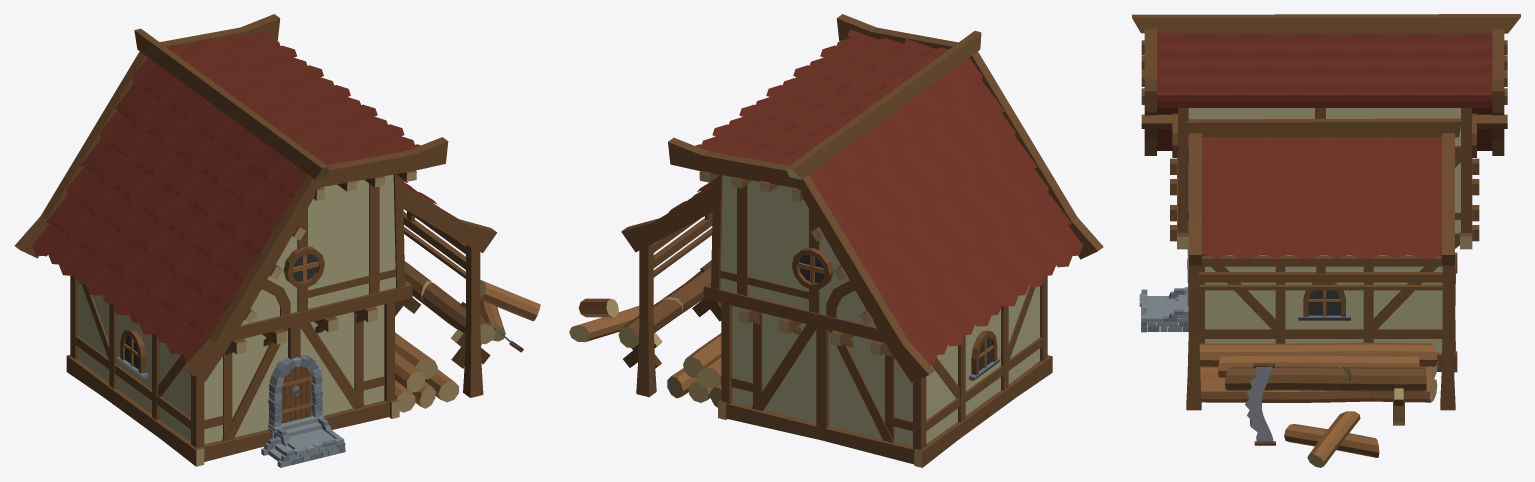
The model's file is Sawmill.glb.
The picture shows the model from 3 angles, left to right: view 1: azimuth 30°, elevation 25°; view 2: azimuth 150°, elevation 25°; view 3: azimuth 270°, elevation 25°; orthographic projection. The views are drawn at different scales.
Parts seen in each view (by area): view 1: Sawmill; view 2: Sawmill; view 3: Sawmill.
Part boxes in pixels (left/top/right/bottom): Sawmill: left=14, top=14, right=540, bottom=467; Sawmill: left=569, top=14, right=1103, bottom=467; Sawmill: left=1132, top=14, right=1520, bottom=467.
Bounding box in the file's own units: 4.4 × 2.86 × 3.28.
